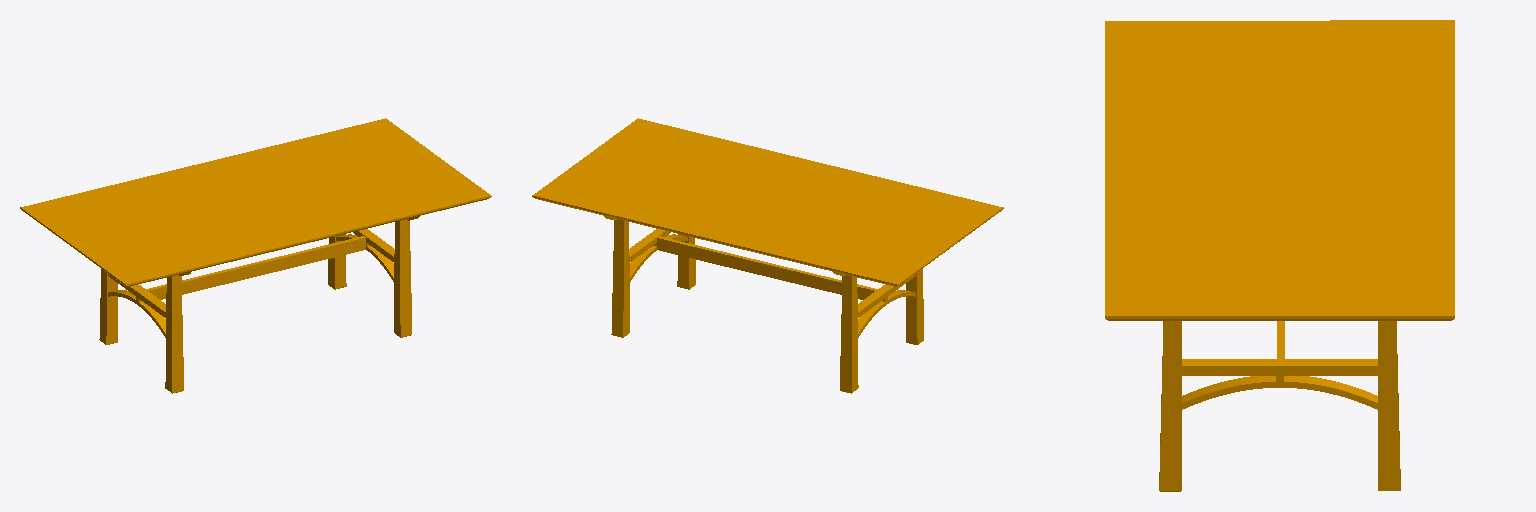
The robot description file, URDF, robot "dining_table_06":
<?xml version="1.0" ?>
<robot name="dining_table_06">
  <link name="baseLink">
    <contact>
      <lateral_friction value="1.0"/>
      <inertia_scaling value="3.0"/>
    </contact>
    <inertial>
      <origin rpy="0 0 0" xyz="-0.000 -0.000 -0.179"/>
       <mass value=".1"/>
       <inertia ixx="1" ixy="0.0" ixz="0.0" iyy="1" iyz="0.0" izz="1"/>
    </inertial>
    <visual>
      <origin rpy="0 0 0" xyz="0 0 0"/>
      <geometry>
        <mesh filename="visual.obj" scale="1.000 1.000 1.000"/>
      </geometry>
      <material name="texture_material">
            <texture filename="texture.png"/>
      </material>
    </visual>
    <collision>
      <origin rpy="0 0 0" xyz="0 0 0"/>
      <geometry>
        <mesh filename="visual.obj" scale="1.000 1.000 1.000"/>
      </geometry>
    </collision>
  </link>
</robot>
        

--- What the picture shows (computed from the rendered views, not written in the file) ---
3 views of the same robot in one strip: view 1: azimuth 30°, elevation 25°; view 2: azimuth 150°, elevation 25°; view 3: azimuth 270°, elevation 25° (orthographic).
Model dining_table_06 with 1 links and 0 joints (none), rooted at baseLink, posed all joints at 0.
Links seen in each view (by area): view 1: baseLink; view 2: baseLink; view 3: baseLink.
Boxes of the visible links, bbox=[...] form: baseLink: bbox=[20, 118, 491, 393]; baseLink: bbox=[532, 118, 1003, 393]; baseLink: bbox=[1105, 20, 1454, 491].
Size in the robot's own frame: 1 by 0.5 by 0.3572 metres.
1 mesh visuals loaded from 1 distinct referenced files (1 OBJ).
